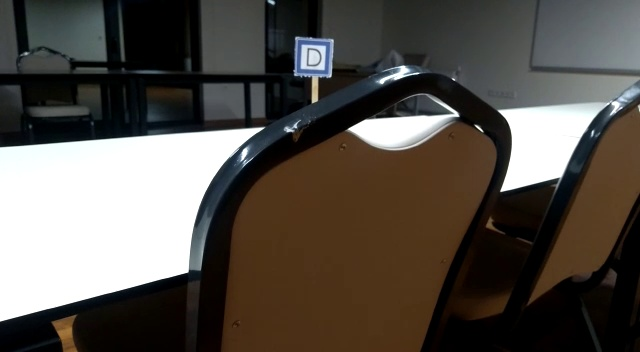durak: (294, 37, 334, 77)
